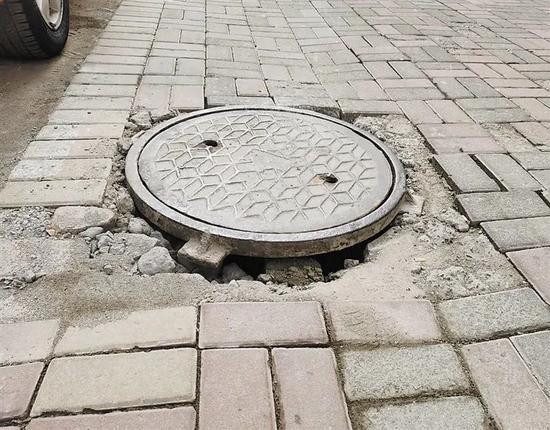circle: (52, 105, 516, 301)
